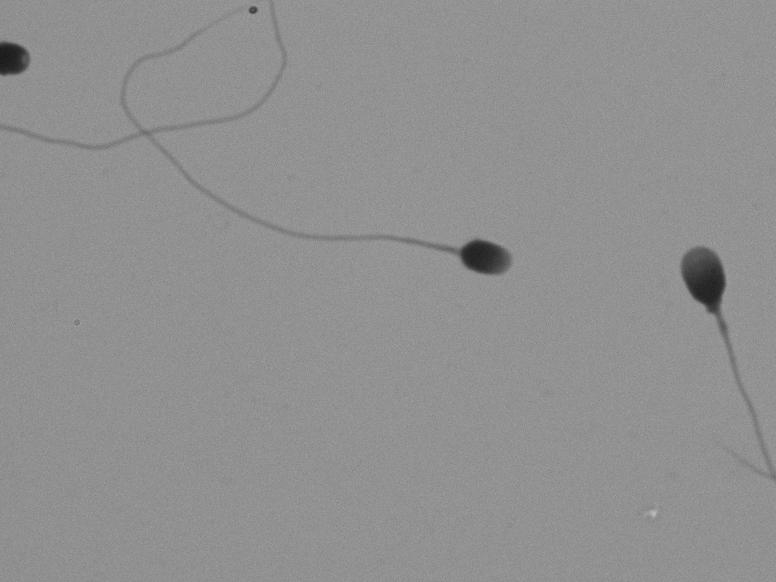Abnormal: (637, 192, 768, 479)
Normal: (128, 82, 568, 357)
